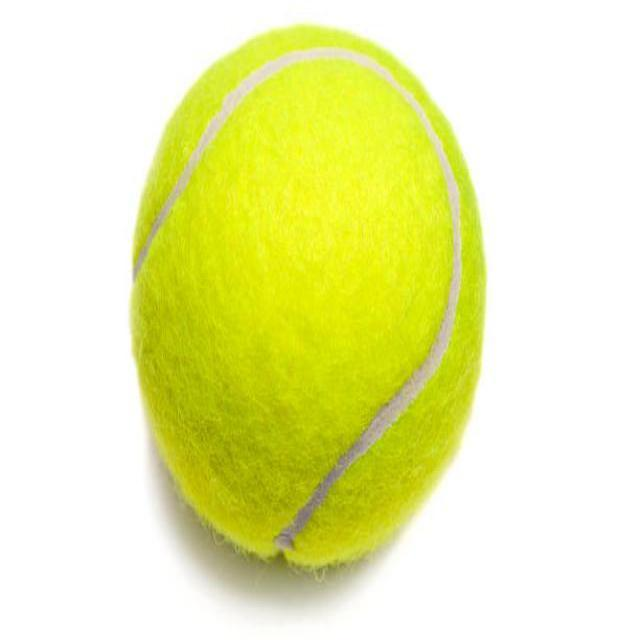tennis-ball: (129, 24, 485, 569)
